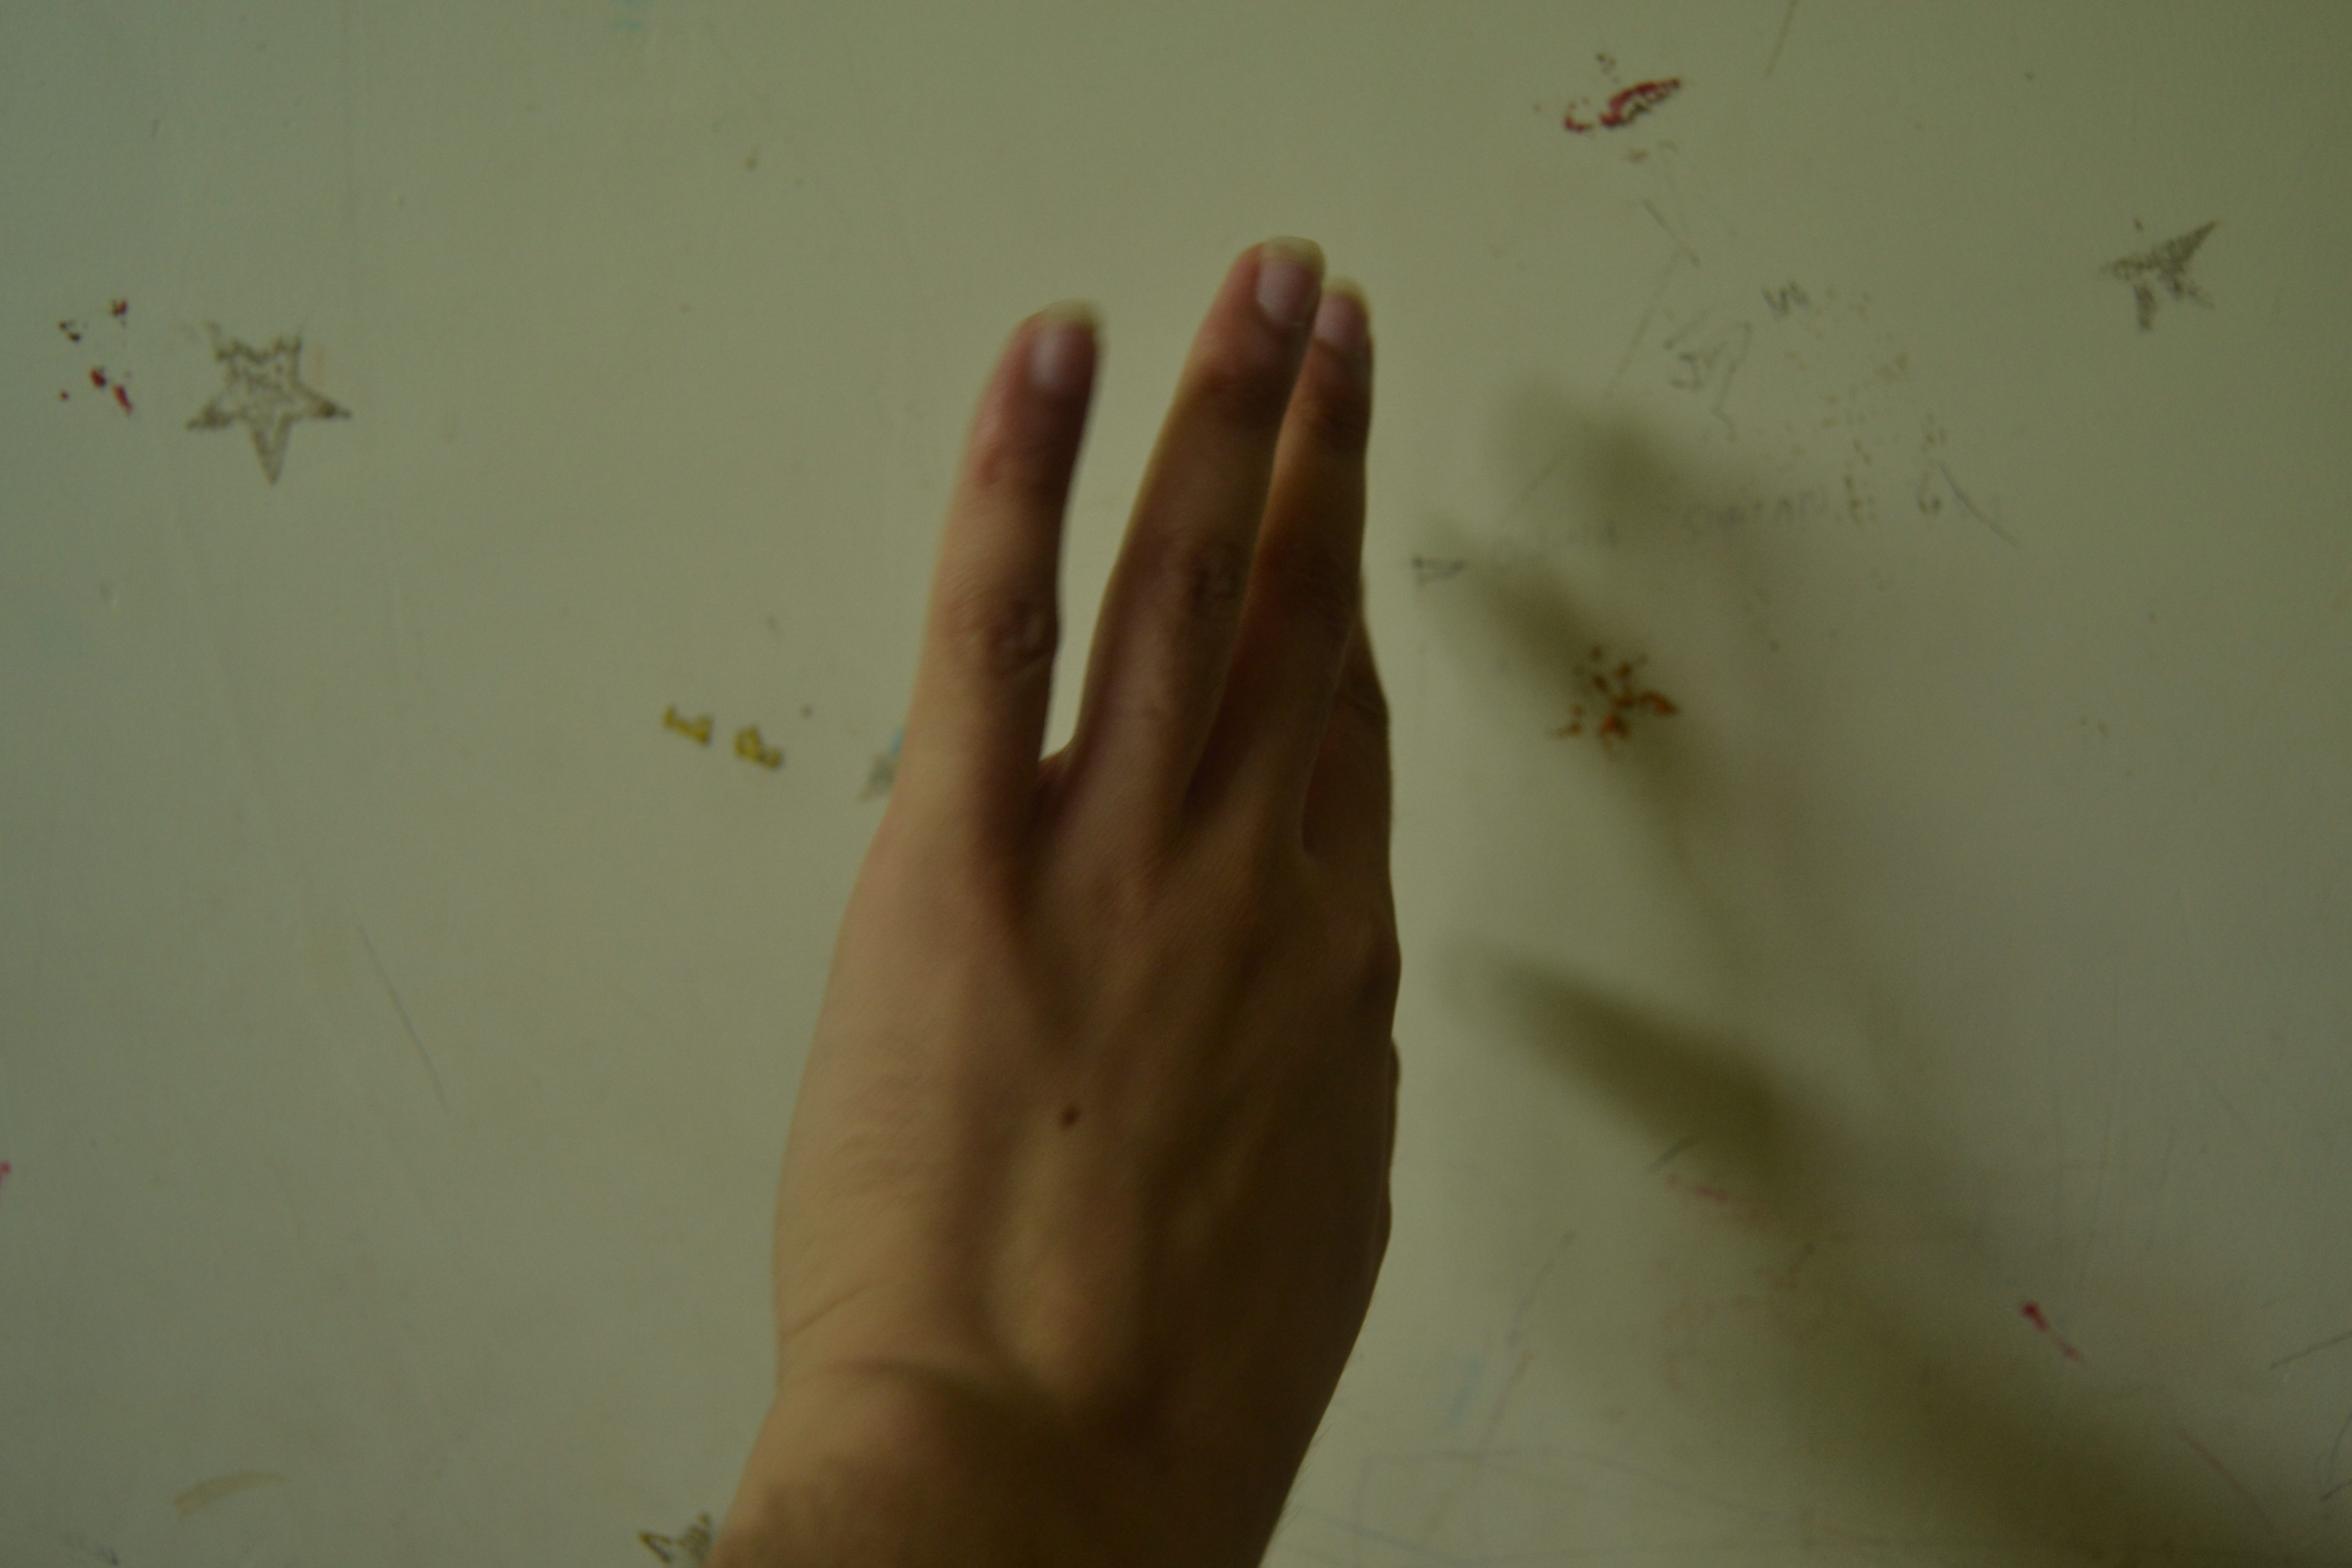move: (777, 234, 1545, 1568)
